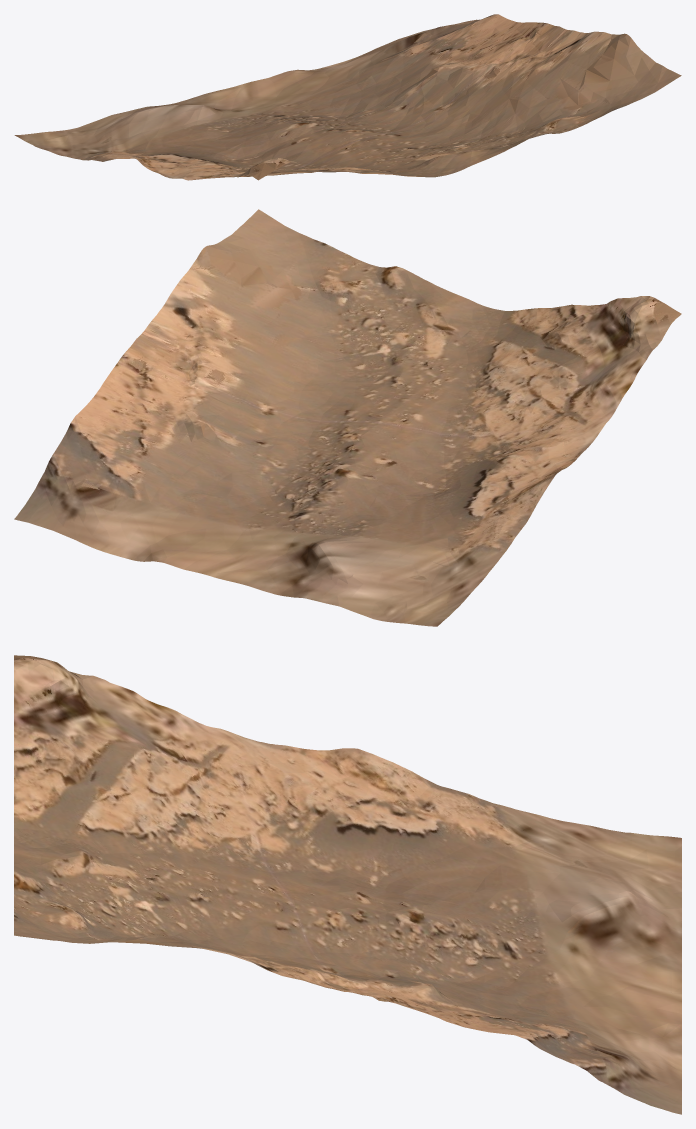
3 views of the same model, one above another, from view 1: azimuth 30°, elevation 25°; view 2: azimuth 150°, elevation 25°; view 3: azimuth 270°, elevation 25° (orthographic). The views are drawn at different scales.
Size of the model in its own units: 1.04 by 0.3582 by 1.04.
3 materials, 3 textured.
